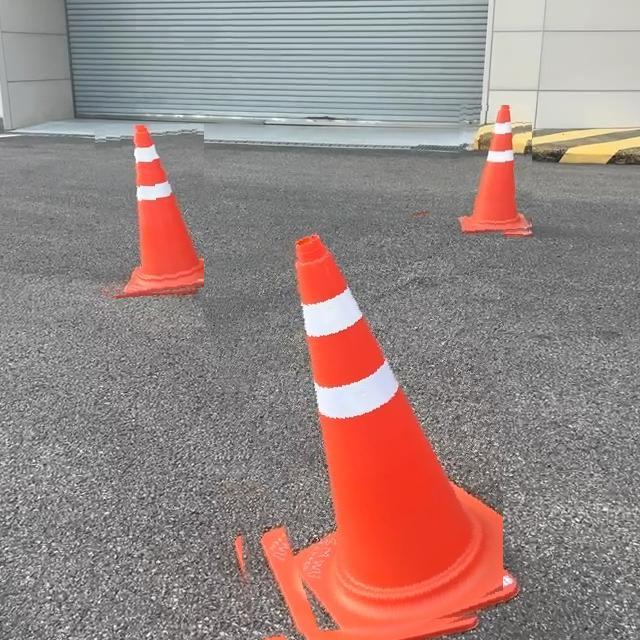fallen_object: (253, 220, 486, 640), (67, 112, 218, 296), (437, 99, 547, 271)
